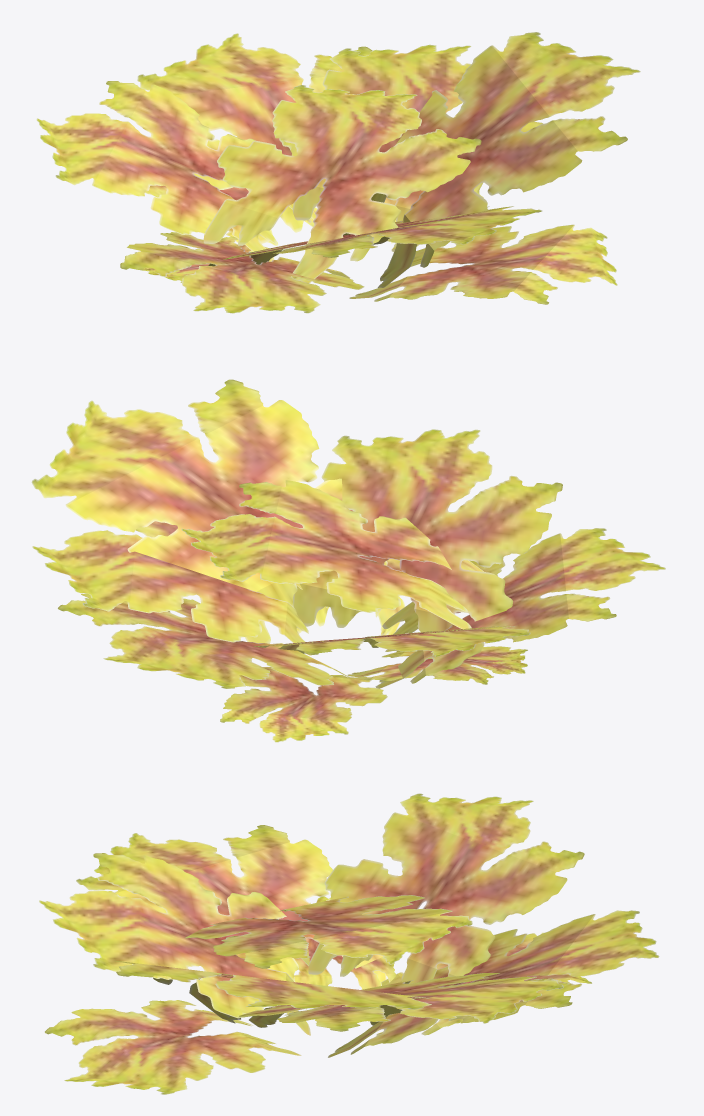
Rendered from Planter_002.fbx.
3 renders of one model, top to bottom at view 1: azimuth 30°, elevation 25°; view 2: azimuth 150°, elevation 25°; view 3: azimuth 270°, elevation 25°, orthographic. The views are drawn at different scales.
Parts seen in each view (by area): view 1: Planters_002; view 2: Planters_002; view 3: Planters_002.
Part boxes in pixels (box(x1,y1,x2,y2)): Planters_002: box(36, 32, 640, 313); Planters_002: box(31, 379, 665, 742); Planters_002: box(39, 793, 659, 1094).
Bounding box in the file's own units: 86.36 × 27.85 × 84.55.
